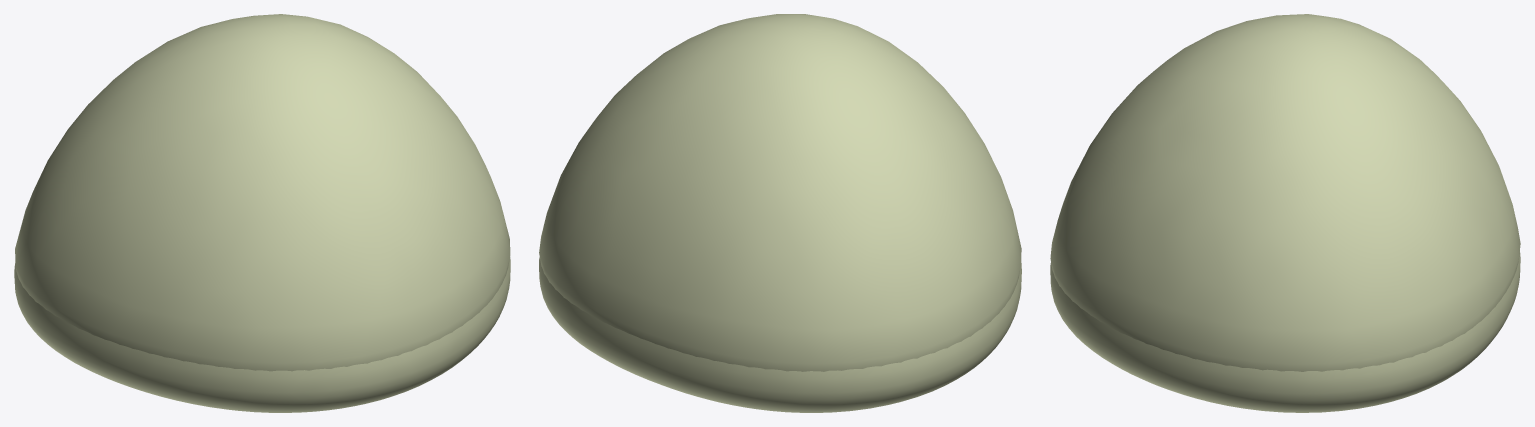
Rendered from gummy.glb.
The picture shows the model from 3 angles, left to right: view 1: azimuth 30°, elevation 25°; view 2: azimuth 150°, elevation 25°; view 3: azimuth 270°, elevation 25°; orthographic projection.
Parts seen in each view (by area): view 1: Gummy, GummyHero; view 2: Gummy, GummyHero; view 3: Gummy, GummyHero.
Boxes of the visible parts, x1,y1,x2,y2 form: Gummy: [15, 14, 510, 371]; GummyHero: [14, 257, 510, 412]; Gummy: [539, 14, 1021, 371]; GummyHero: [539, 257, 1021, 412]; Gummy: [1050, 14, 1520, 371]; GummyHero: [1050, 251, 1520, 412].
Size of the model in its own units: 0.3692 by 0.275 by 0.3538.
